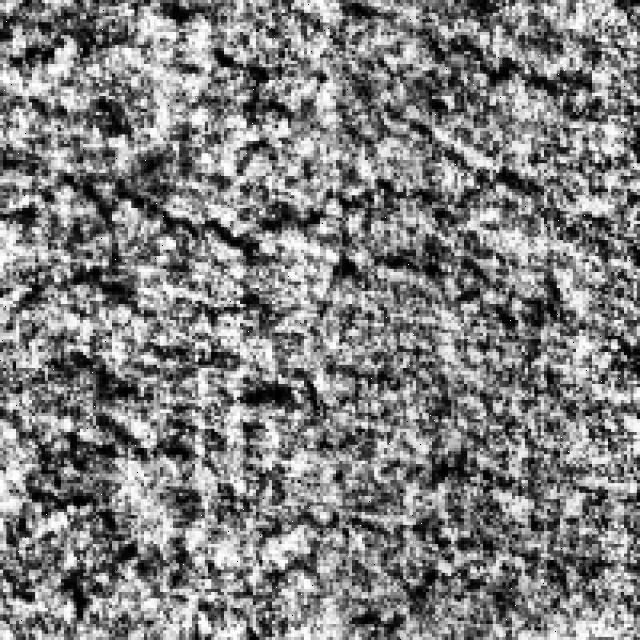Pitted_Surface: (22, 156, 580, 324), (19, 346, 304, 598)
